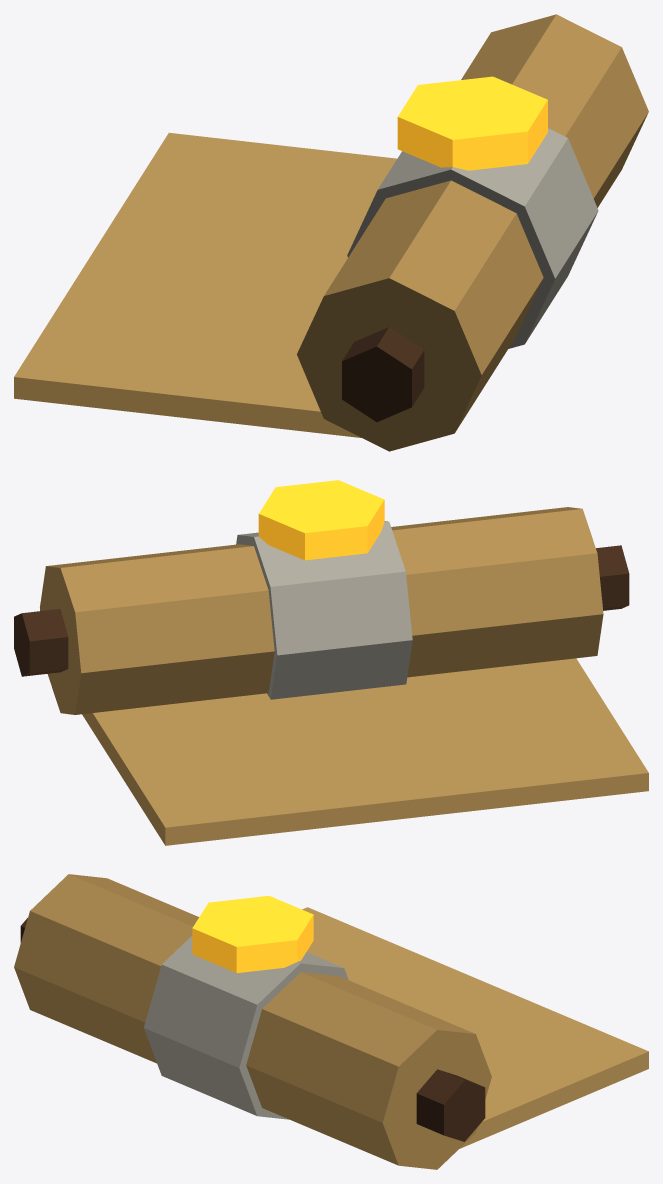
File: prayer_scroll.glb
3 renders of one model, top to bottom at view 1: azimuth 30°, elevation 25°; view 2: azimuth 150°, elevation 25°; view 3: azimuth 270°, elevation 25°, orthographic. The views are drawn at different scales.
Parts seen in each view (by area): view 1: prayer_scroll; view 2: prayer_scroll; view 3: prayer_scroll.
Boxes of the visible parts, box(x1,y1,x2,y2) form: prayer_scroll: box(14, 14, 648, 451); prayer_scroll: box(14, 480, 648, 845); prayer_scroll: box(14, 874, 648, 1169).
Bounding box in the file's own units: 0.822 × 0.2563 × 0.822.
